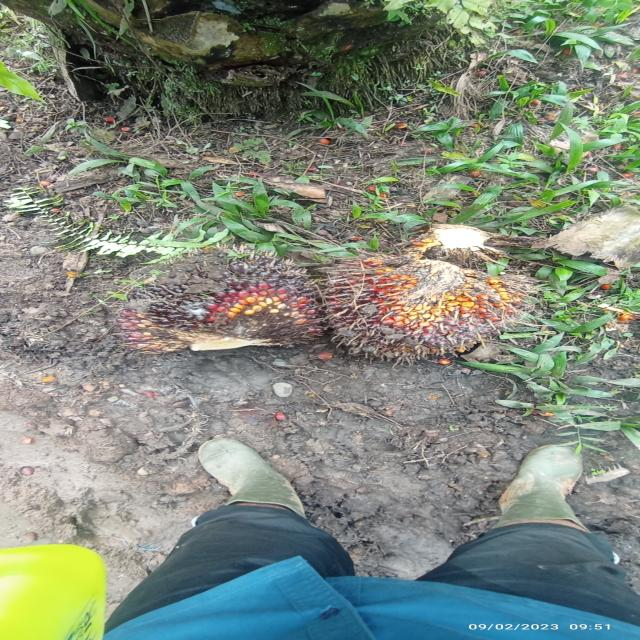fraksi 00: (108, 245, 322, 365)
fraksi 1: (319, 247, 565, 363)
